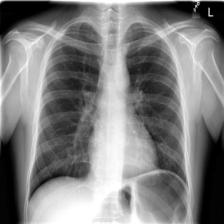normal: (26, 18, 194, 224)
